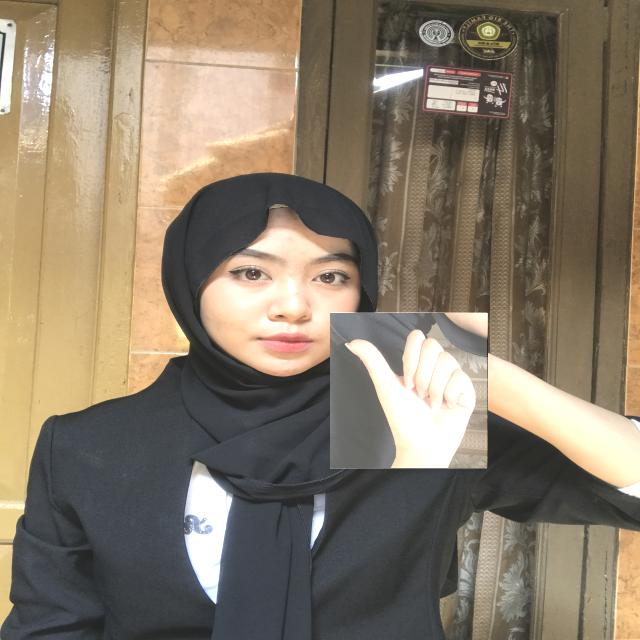sedih: (330, 312, 487, 469)
